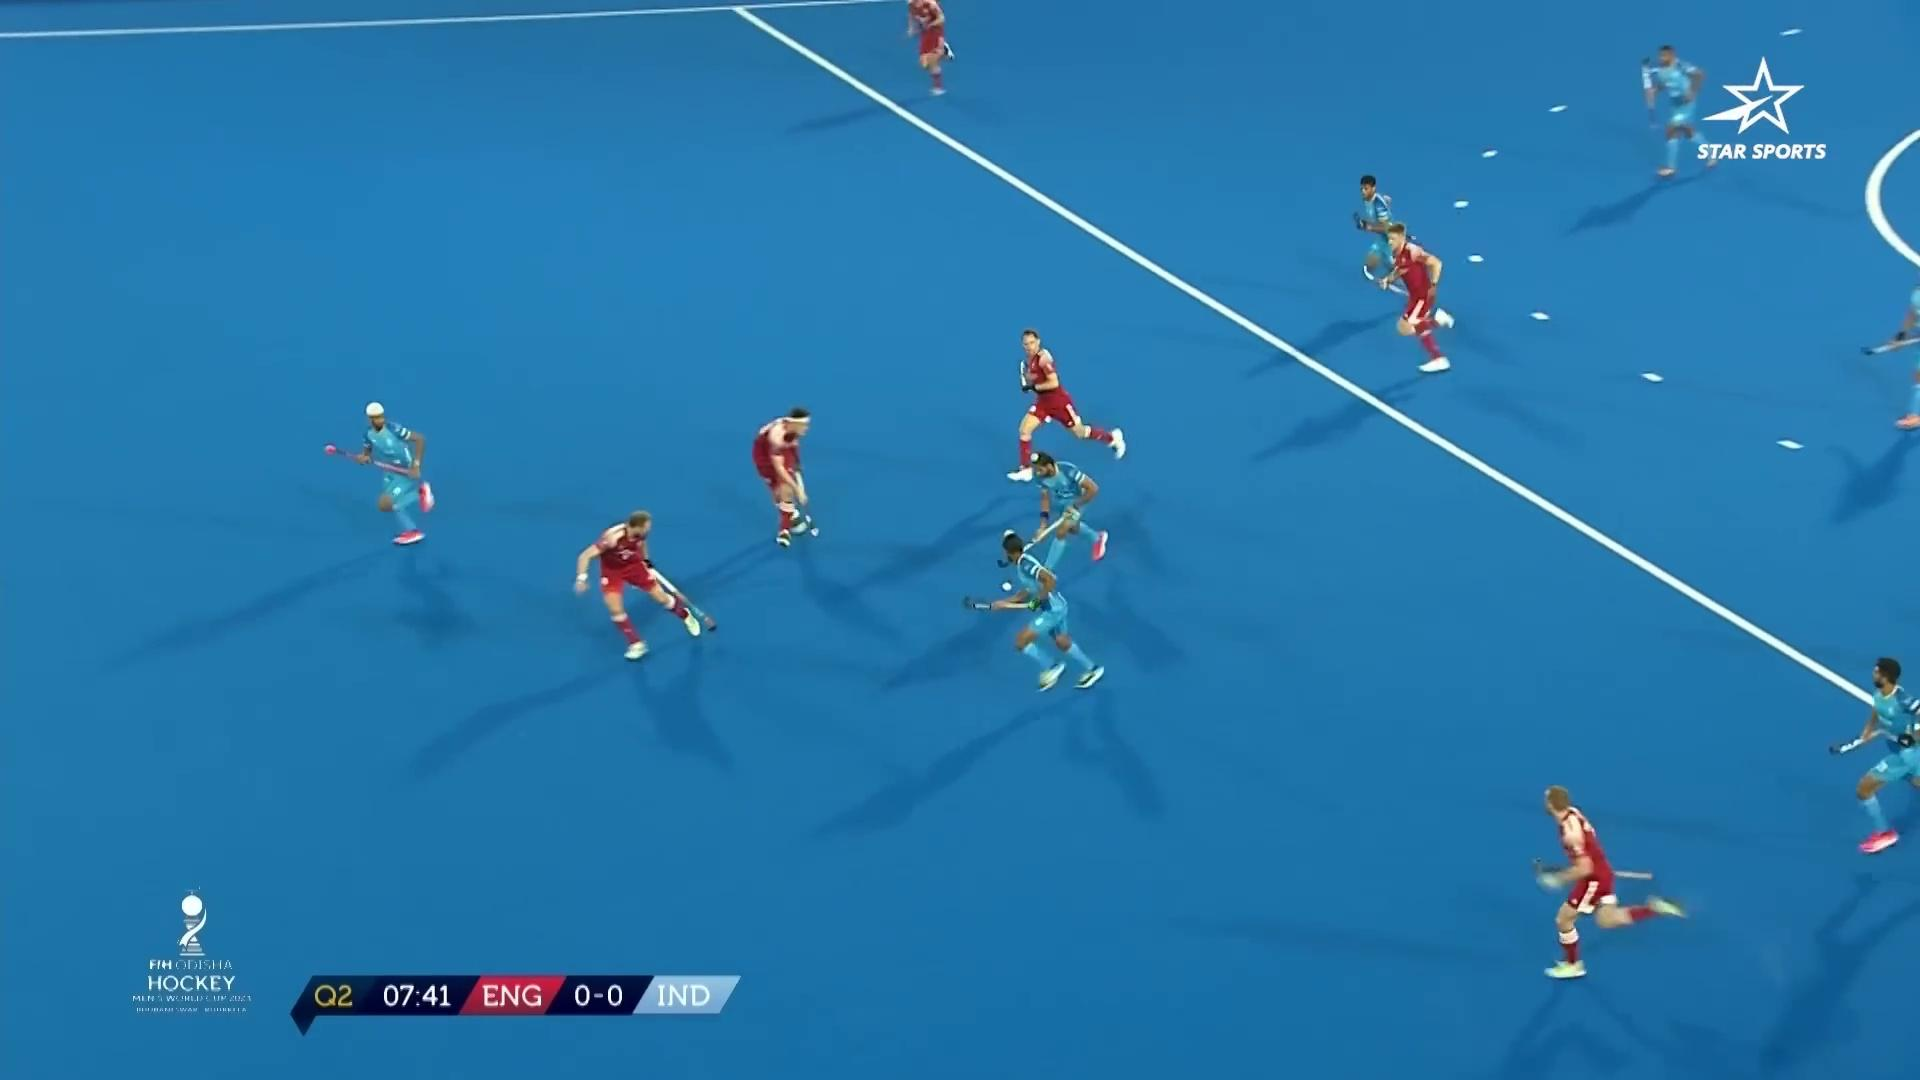ball: (997, 575, 1017, 599)
